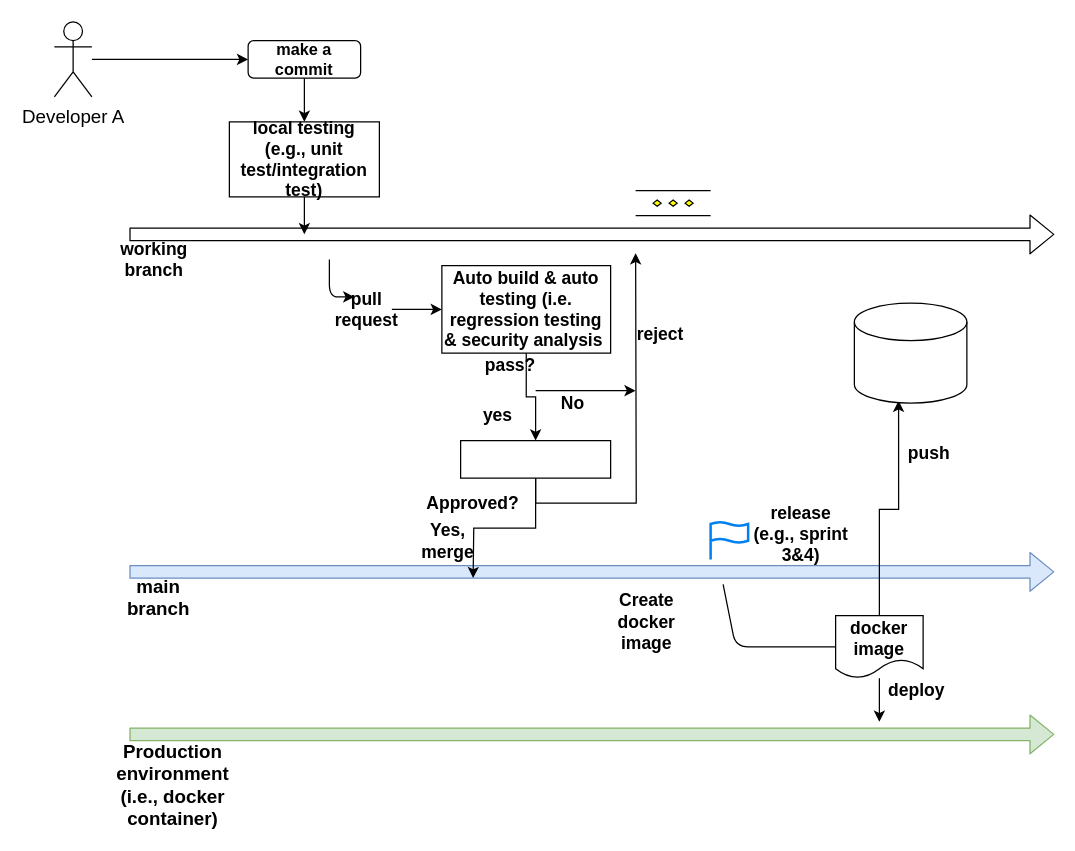
The diagram is 1075 pixels wide and 851 high, and some of its shapes have lost their labels. The shapes that lost their labels are listed below. From the top down, each one's box as (x1, y1, x2, y2) in pixels, then its label:
(853, 302, 967, 403): Docker hub
(459, 439, 611, 478): code review
